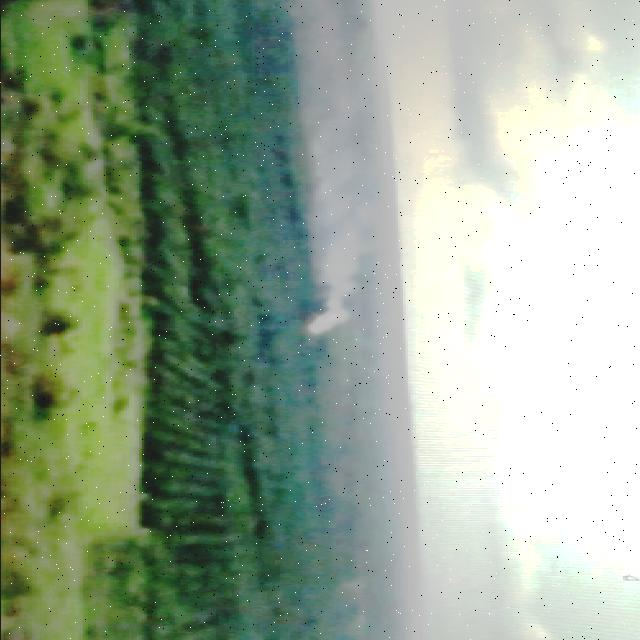asap: (298, 229, 364, 340)
